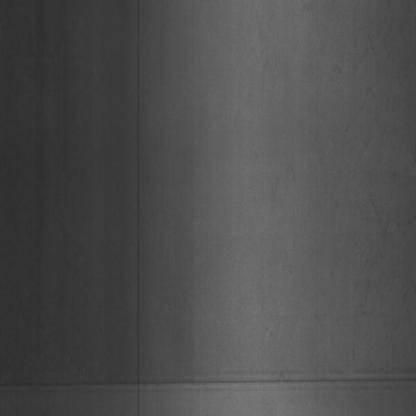welding_line: (2, 365, 416, 397)
